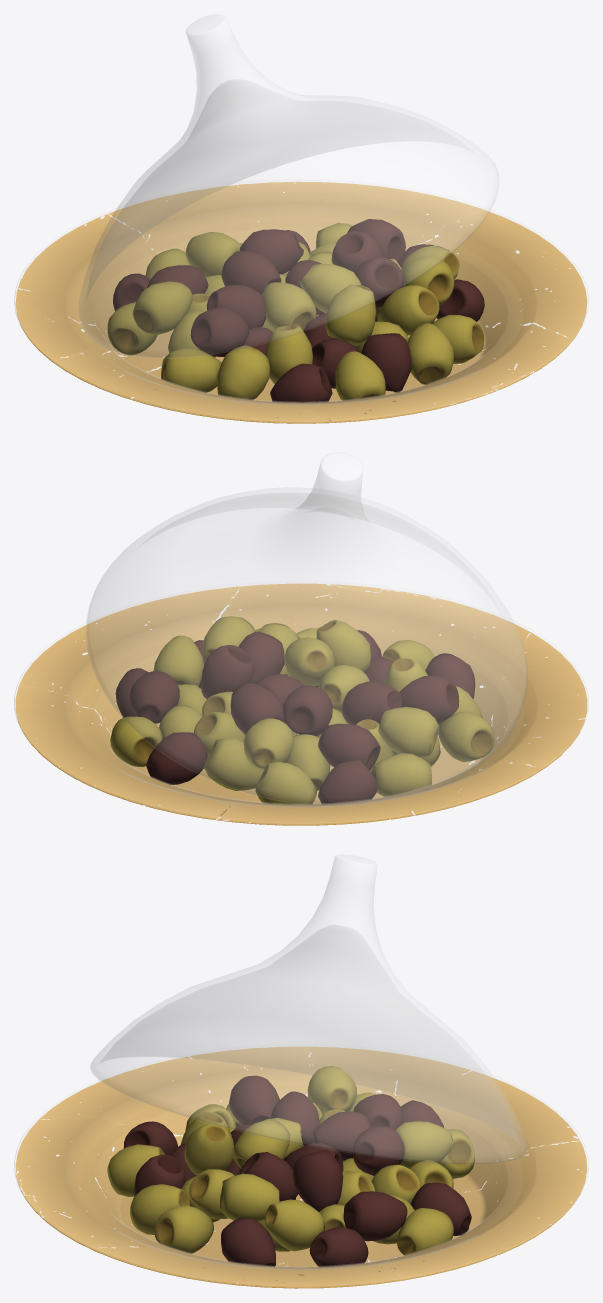
Rendered from IridescentDishWithOlives.glb.
3 views of the same model, one above another, from view 1: azimuth 30°, elevation 25°; view 2: azimuth 150°, elevation 25°; view 3: azimuth 270°, elevation 25° (orthographic).
Visible parts, largest first — view 1: glassCover, goldLeaf, glassDish, olives; view 2: glassCover, glassDish, goldLeaf, olives; view 3: glassCover, goldLeaf, olives, glassDish.
Part boxes in pixels (x1,y1,x2,y2): glassCover: [78, 14, 499, 358]; goldLeaf: [15, 181, 587, 423]; glassDish: [14, 179, 588, 422]; olives: [107, 219, 484, 402]; glassCover: [86, 452, 527, 805]; glassDish: [14, 581, 588, 824]; goldLeaf: [15, 583, 587, 825]; olives: [110, 616, 494, 804]; glassCover: [90, 854, 527, 1164]; goldLeaf: [15, 1047, 587, 1288]; olives: [107, 1065, 474, 1267]; glassDish: [14, 1057, 588, 1287].
Size of the model in its own units: 0.4593 by 0.2853 by 0.4593.
4 materials, 2 textured.
